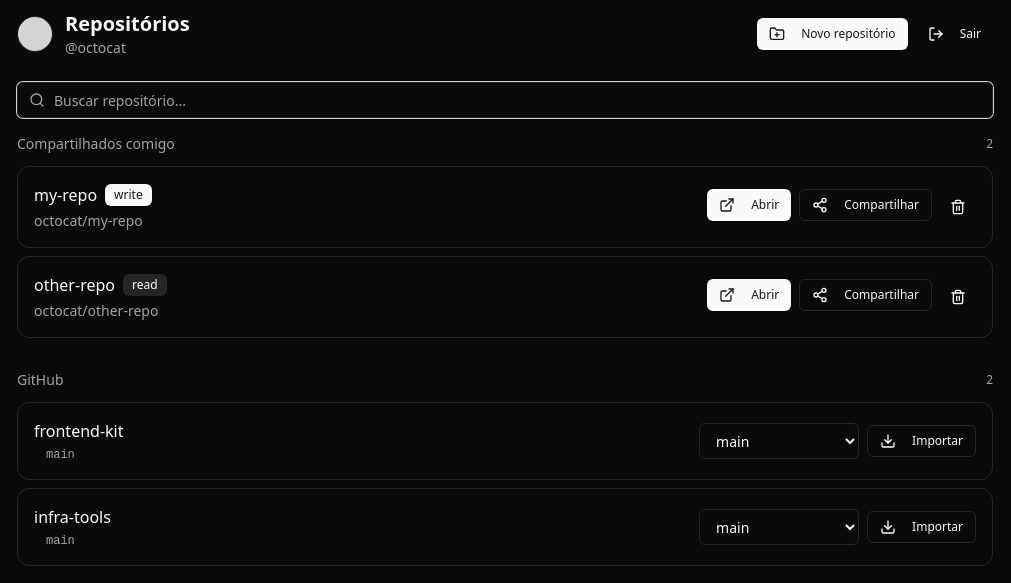
Test case: <ReposPage /> › mostra contagens filtradas por seção enquanto a busca está ativa
Type "my" into the field with placeholder "Buscar repositório..." at (505, 100), box left=17, top=82, right=993, bottom=118
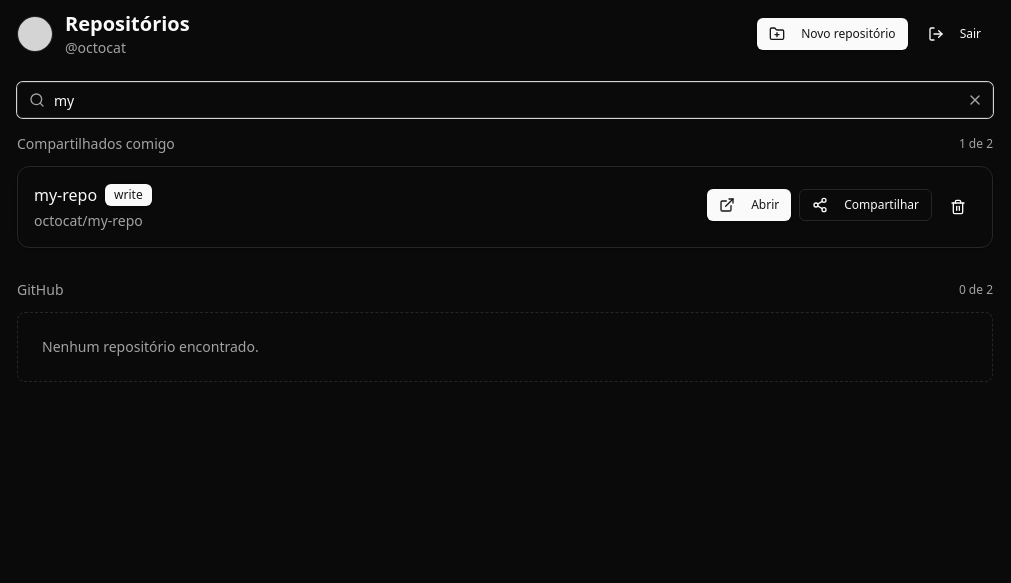
Check: the text "1 de 2" is shown, box left=959, top=136, right=993, bottom=152
Check: the text "0 de 2" is shown, box left=959, top=282, right=993, bottom=298
